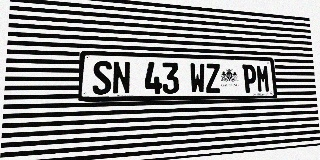3: (162, 62, 179, 94)
4: (145, 62, 162, 94)
M: (256, 65, 270, 93)
N: (112, 61, 131, 94)
P: (242, 64, 257, 93)
S: (92, 60, 112, 95)
W: (189, 63, 206, 93)
Z: (205, 63, 221, 93)
